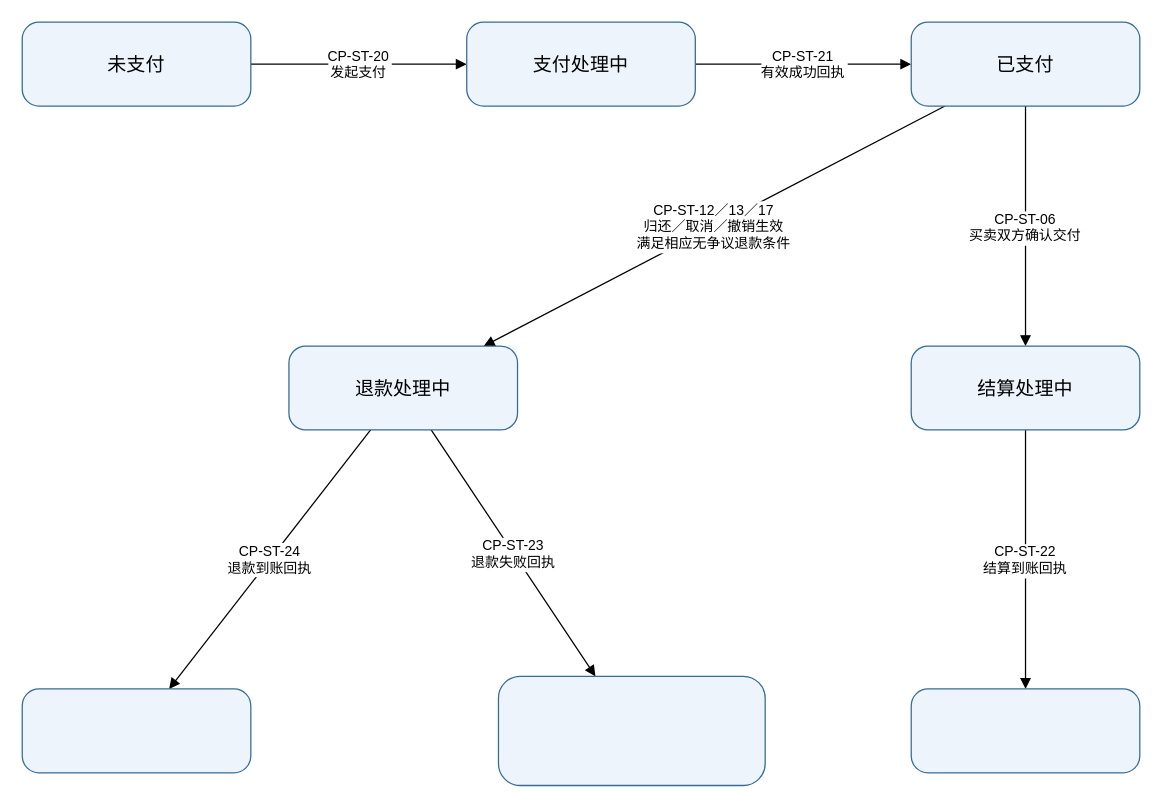
This 1162x808 diagram has some shape labels left out. Each missing label, with the centre of its shape:
已结算到账: pixel 1025 730
已退款到账: pixel 136 730
退款失败 后续处理待确认: pixel 631 730
